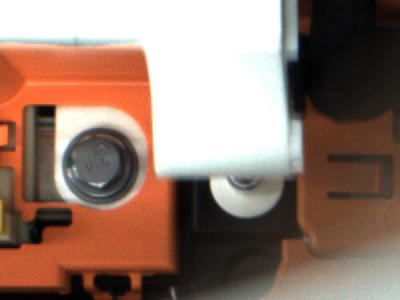nut_b: (61, 126, 137, 207)
